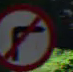Don't turn right: (0, 2, 54, 67)
